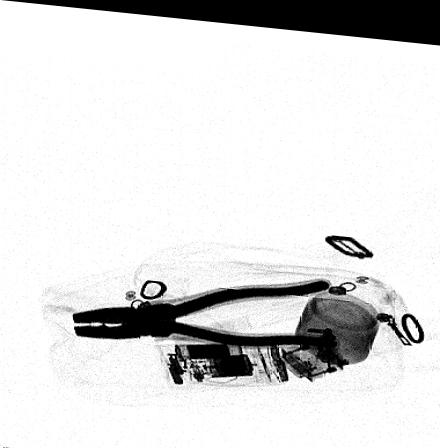Pliers: (73, 273, 340, 341)
